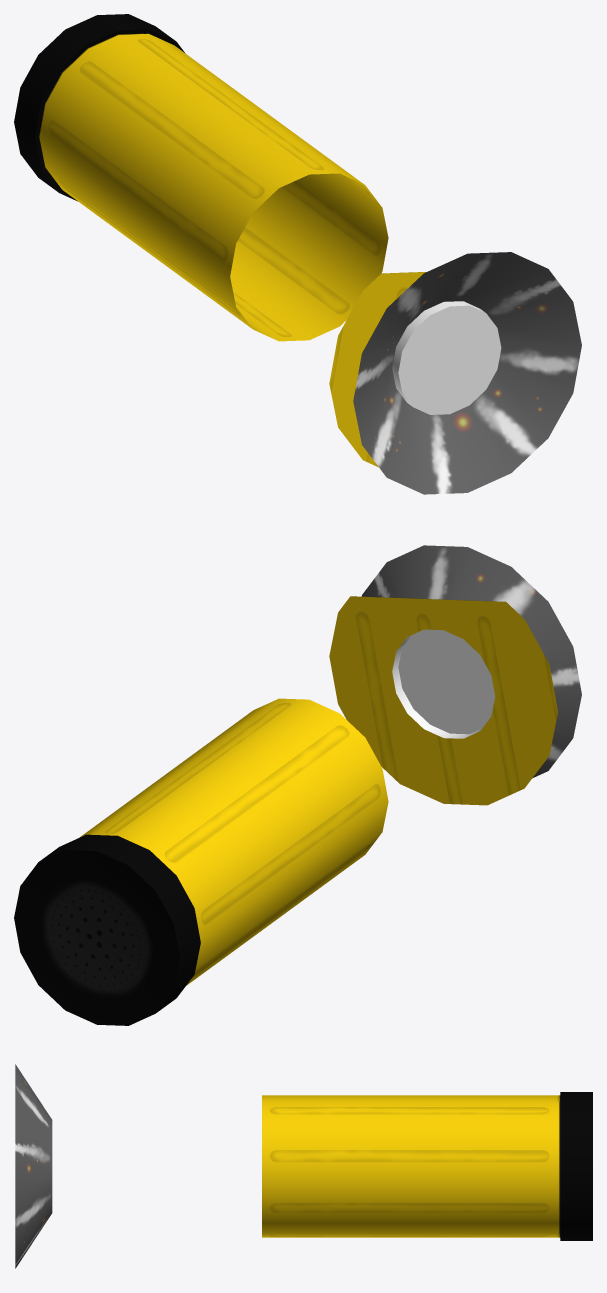
File: Flashlight.fbx
3 views of the same model, one above another, from view 1: azimuth 30°, elevation 25°; view 2: azimuth 150°, elevation 25°; view 3: azimuth 270°, elevation 25° (orthographic). The views are drawn at different scales.
Parts seen in each view (by area): view 1: Flashlight; view 2: Flashlight; view 3: Flashlight.
Part boxes in pixels (bbox=[...]): Flashlight: bbox=[14, 14, 581, 494]; Flashlight: bbox=[14, 545, 581, 1025]; Flashlight: bbox=[15, 1064, 592, 1268].
Size of the model in its own units: 10.07 by 10.07 by 25.99.
